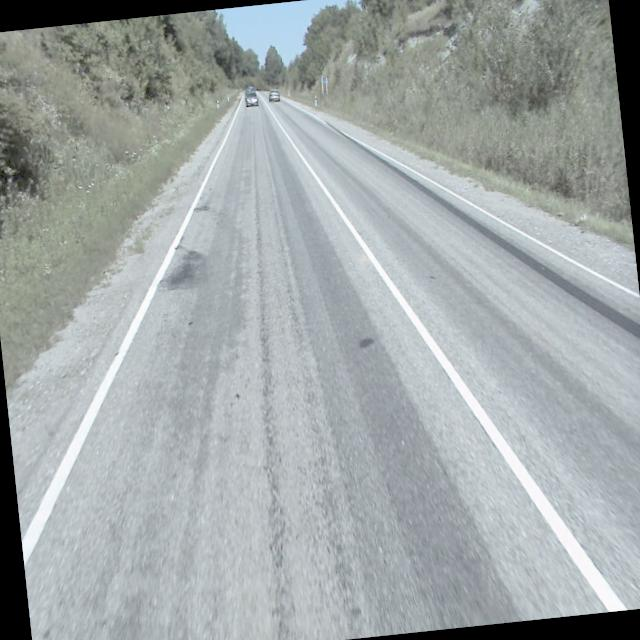road: (17, 91, 640, 640)
